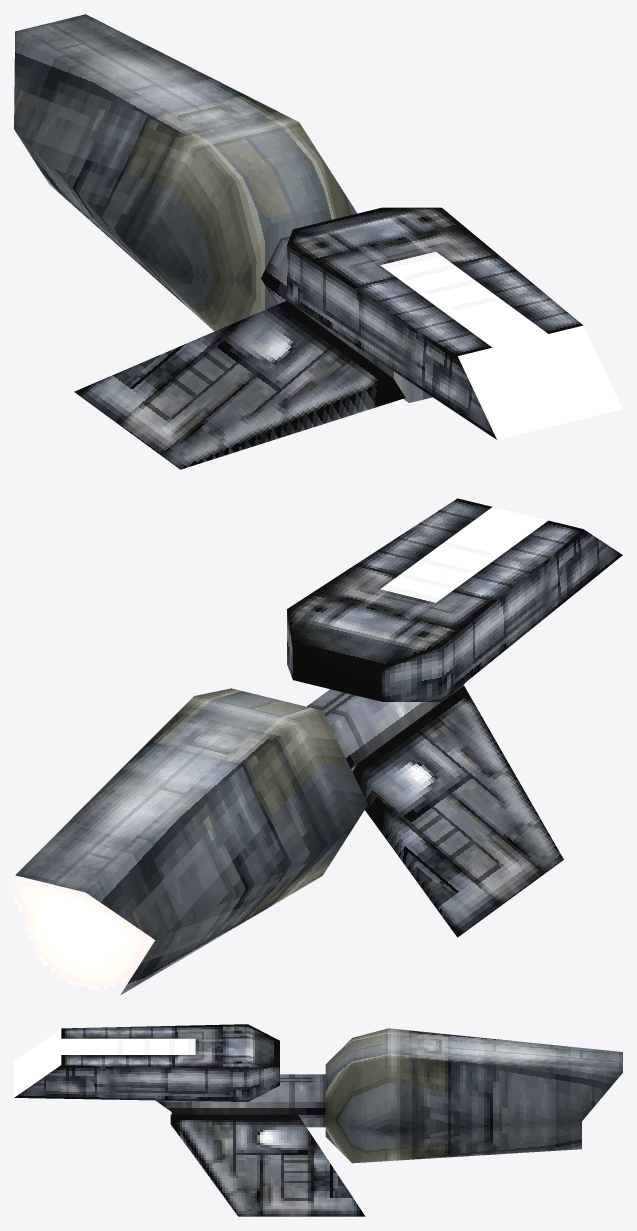
Rendered from tfprobe_3db.gltf.
3 views of the same model, one above another, from view 1: azimuth 30°, elevation 25°; view 2: azimuth 150°, elevation 25°; view 3: azimuth 270°, elevation 25° (orthographic). The views are drawn at different scales.
Parts seen in each view (by area): view 1: tfprobe.3db; view 2: tfprobe.3db; view 3: tfprobe.3db.
Boxes of the visible parts, x1=… form: tfprobe.3db: x1=14, y1=14, x2=622, y2=469; tfprobe.3db: x1=14, y1=498, x2=622, y2=995; tfprobe.3db: x1=14, y1=1024, x2=622, y2=1216.
Size of the model in its own units: 2.17 by 1.06 by 4.99.
2 materials, 2 textured.
